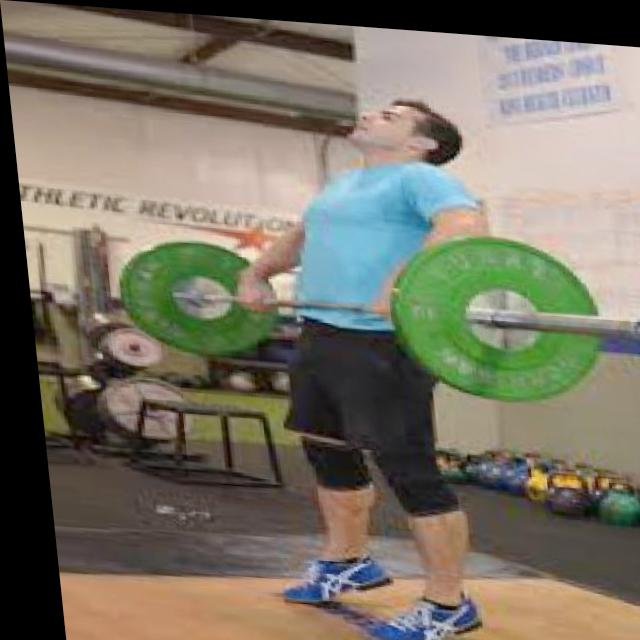barbell: (381, 223, 640, 408)
